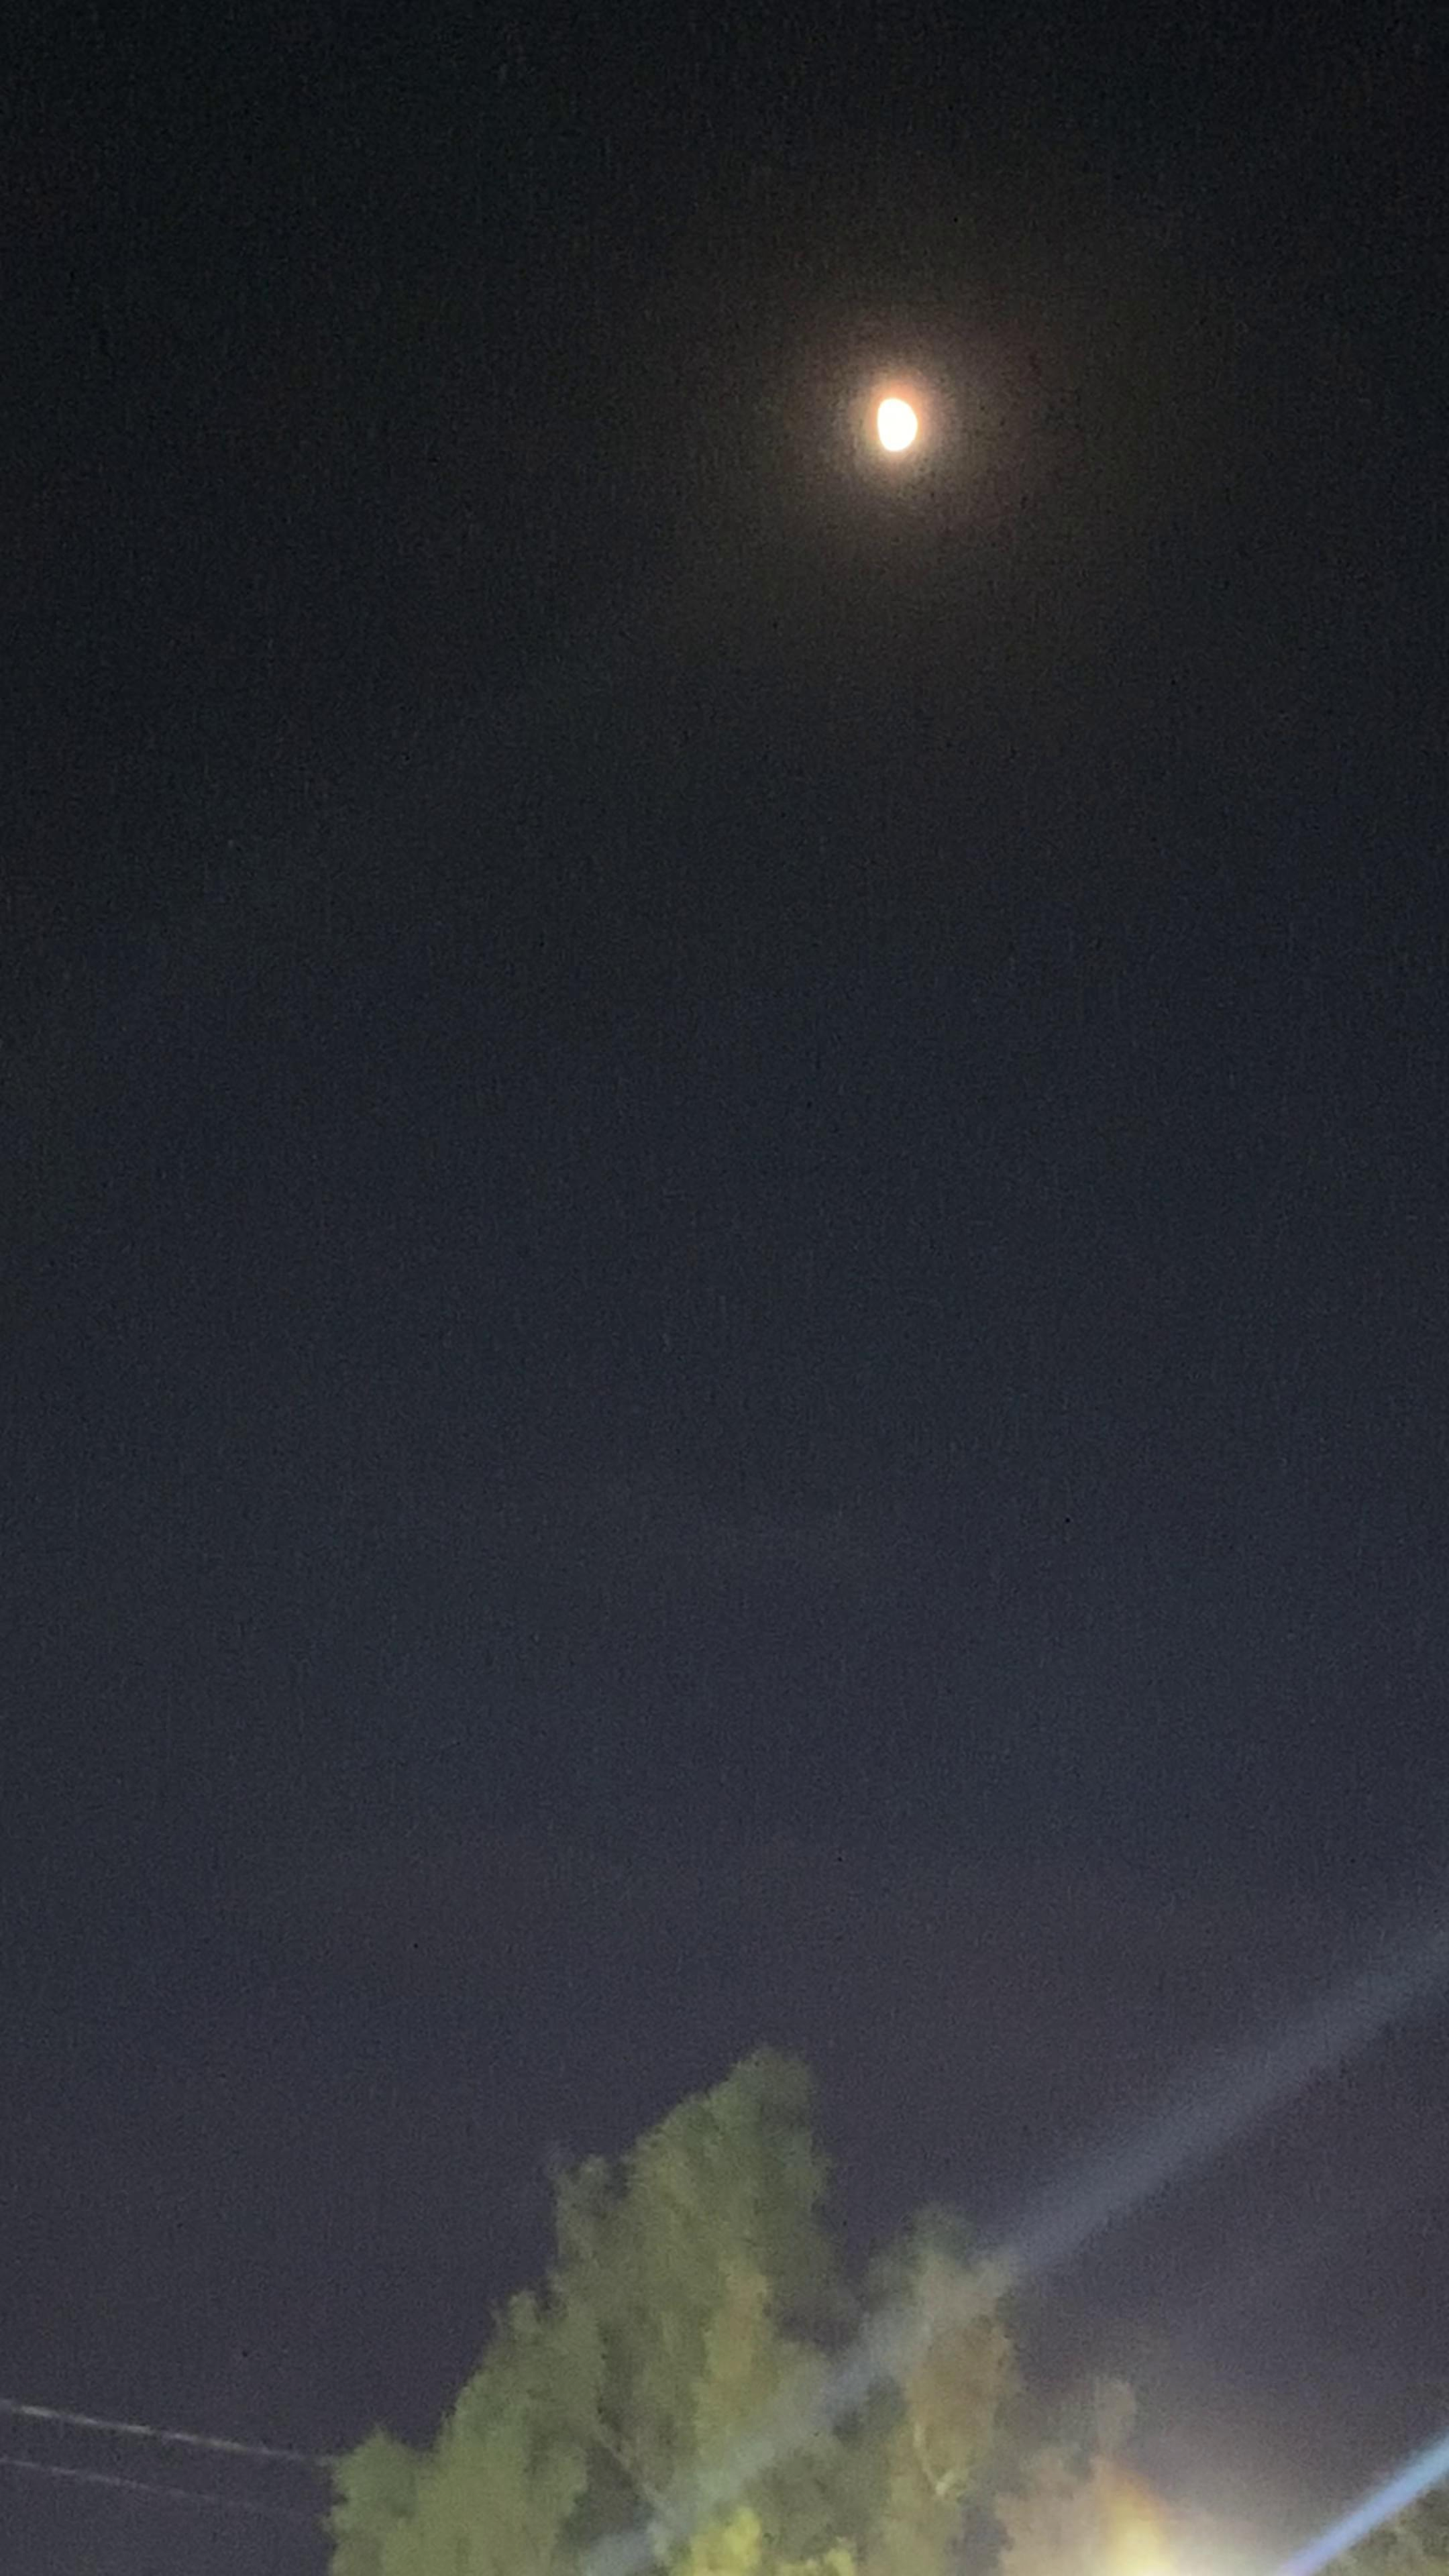moon: (826, 357, 943, 487)
